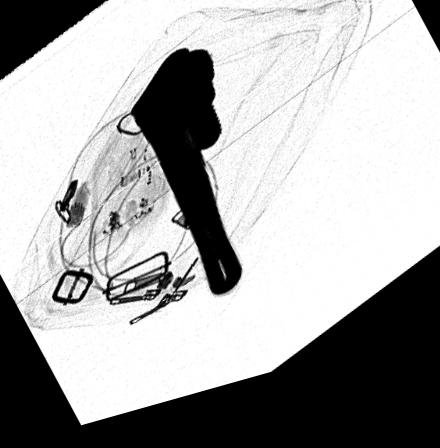Wrench: (129, 56, 243, 309)
